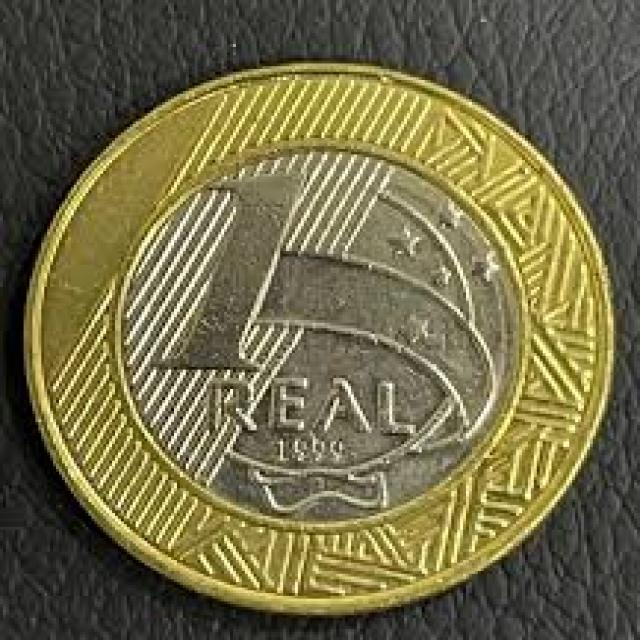1 real: (31, 77, 586, 577)
